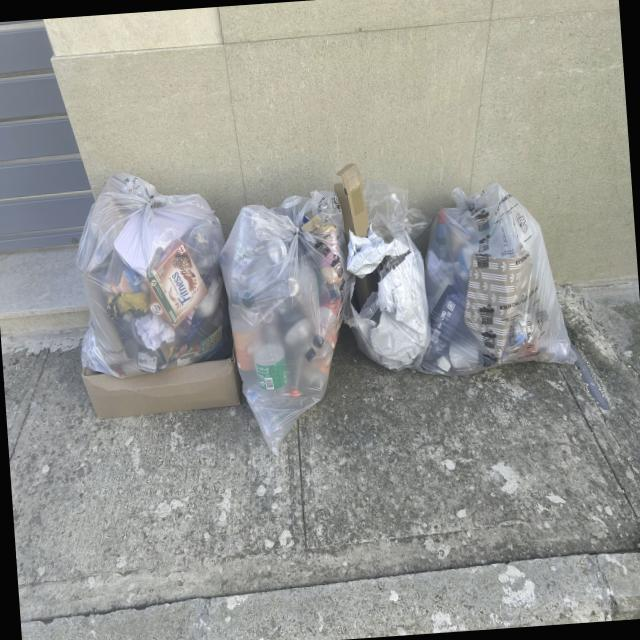grey_bag: (214, 178, 360, 464), (64, 158, 235, 378), (424, 174, 586, 380), (332, 156, 437, 380)
